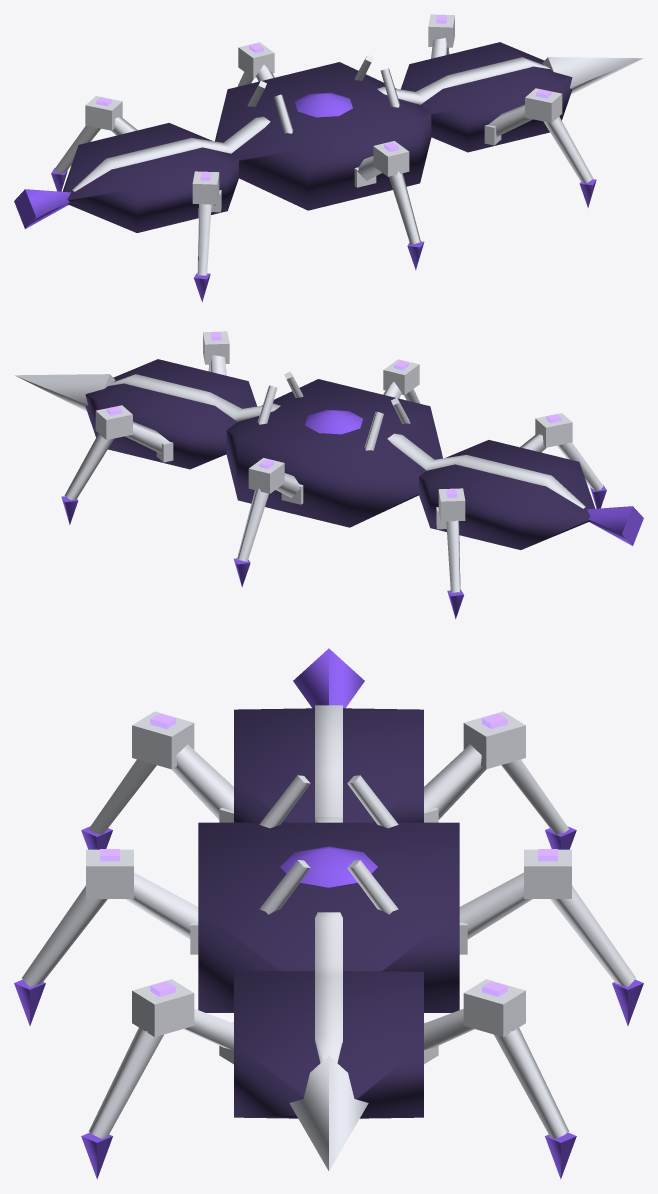
File: acolyte-hadron.glb
3 views of the same model, one above another, from view 1: azimuth 30°, elevation 25°; view 2: azimuth 150°, elevation 25°; view 3: azimuth 270°, elevation 25° (orthographic). The views are drawn at different scales.
Visible parts, largest first — view 1: segment_1, segment_2, segment_0, spine_aft, spine_fore, bow_prism, drive_prism, listening_dome, limb_0_s_tibia, limb_0_s_knee, limb_1_s_knee, limb_1_s_tibia (+7 smaller); view 2: segment_1, segment_2, segment_0, spine_aft, spine_fore, bow_prism, drive_prism, listening_dome, limb_0_p_tibia, limb_0_p_knee, limb_1_p_knee, limb_1_p_tibia (+7 smaller); view 3: segment_1, segment_0, segment_2, bow_prism, spine_fore, spine_aft, limb_0_s_tibia, limb_0_p_tibia, limb_0_s_knee, limb_0_p_knee, drive_prism, limb_1_s_tibia (+20 smaller).
Part boxes in pixels (bbox=[...]): segment_1: bbox=[215, 62, 431, 210]; segment_2: bbox=[62, 123, 238, 232]; segment_0: bbox=[400, 42, 572, 152]; spine_aft: bbox=[72, 116, 270, 191]; spine_fore: bbox=[377, 57, 549, 104]; bow_prism: bbox=[542, 57, 642, 94]; drive_prism: bbox=[14, 189, 70, 228]; listening_dome: bbox=[295, 92, 352, 117]; limb_0_s_tibia: bbox=[543, 116, 593, 183]; limb_0_s_knee: bbox=[525, 88, 562, 122]; limb_1_s_knee: bbox=[373, 141, 409, 176]; limb_1_s_tibia: bbox=[389, 171, 420, 244]; segment_1: bbox=[226, 379, 442, 527]; segment_2: bbox=[419, 440, 595, 549]; segment_0: bbox=[85, 359, 257, 469]; spine_aft: bbox=[387, 433, 585, 508]; spine_fore: bbox=[108, 374, 280, 421]; bow_prism: bbox=[15, 374, 115, 411]; drive_prism: bbox=[587, 506, 643, 545]; listening_dome: bbox=[305, 409, 362, 434]; limb_0_p_tibia: bbox=[64, 433, 114, 500]; limb_0_p_knee: bbox=[95, 405, 132, 439]; limb_1_p_knee: bbox=[248, 458, 284, 493]; limb_1_p_tibia: bbox=[237, 488, 268, 561]; segment_1: bbox=[198, 822, 459, 1012]; segment_0: bbox=[234, 971, 423, 1118]; segment_2: bbox=[234, 708, 423, 822]; bow_prism: bbox=[289, 1056, 368, 1170]; spine_fore: bbox=[315, 912, 342, 1062]; spine_aft: bbox=[315, 705, 342, 822]; limb_0_s_tibia: bbox=[88, 1027, 163, 1138]; limb_0_p_tibia: bbox=[494, 1027, 569, 1138]; limb_0_s_knee: bbox=[132, 979, 194, 1036]; limb_0_p_knee: bbox=[463, 979, 525, 1036]; drive_prism: bbox=[293, 648, 364, 708]; limb_1_s_tibia: bbox=[22, 885, 107, 987].
Bounding box in the file's own units: 58 × 11.53 × 31.47.
